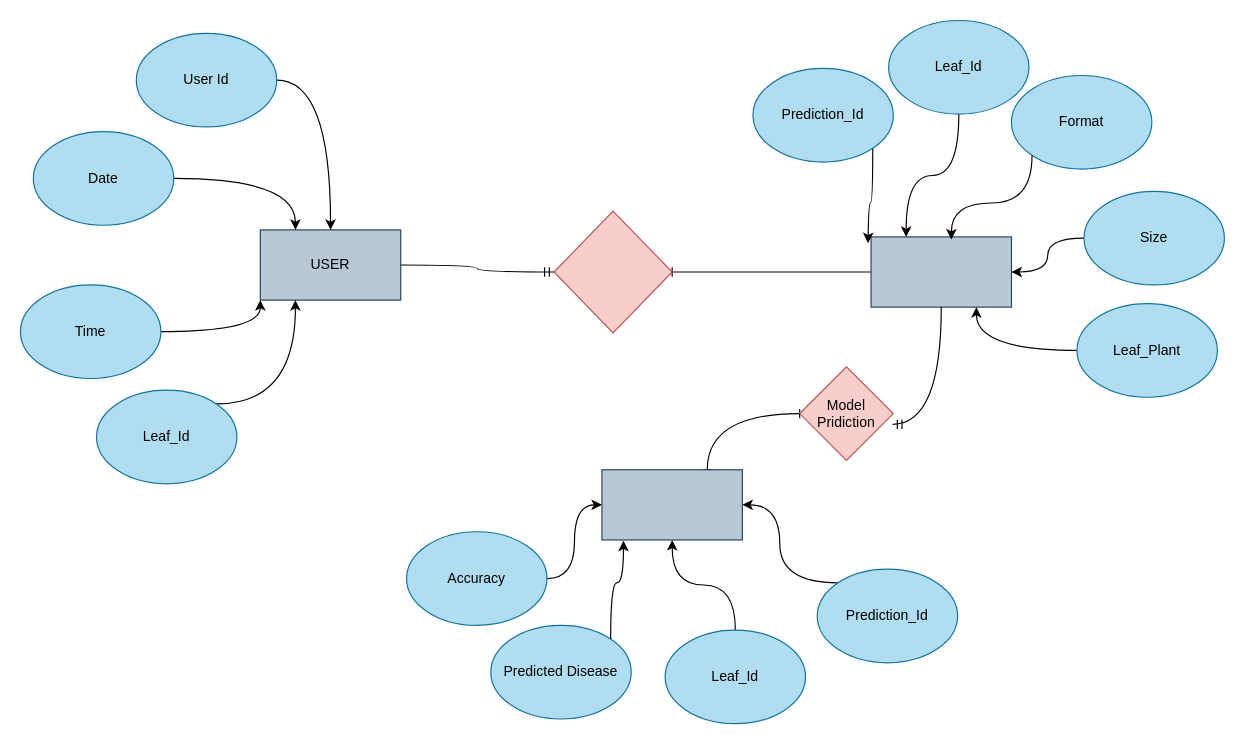
Image size: 1245x744. Some labels were removed from this diagram. Here are the shapes that lost their labels. From the top down, the centre of each, then its label:
At point 612,271: "Take /Upload Picture".
At point 940,271: "LEAF".
At point 671,504: "PREDICTION".
